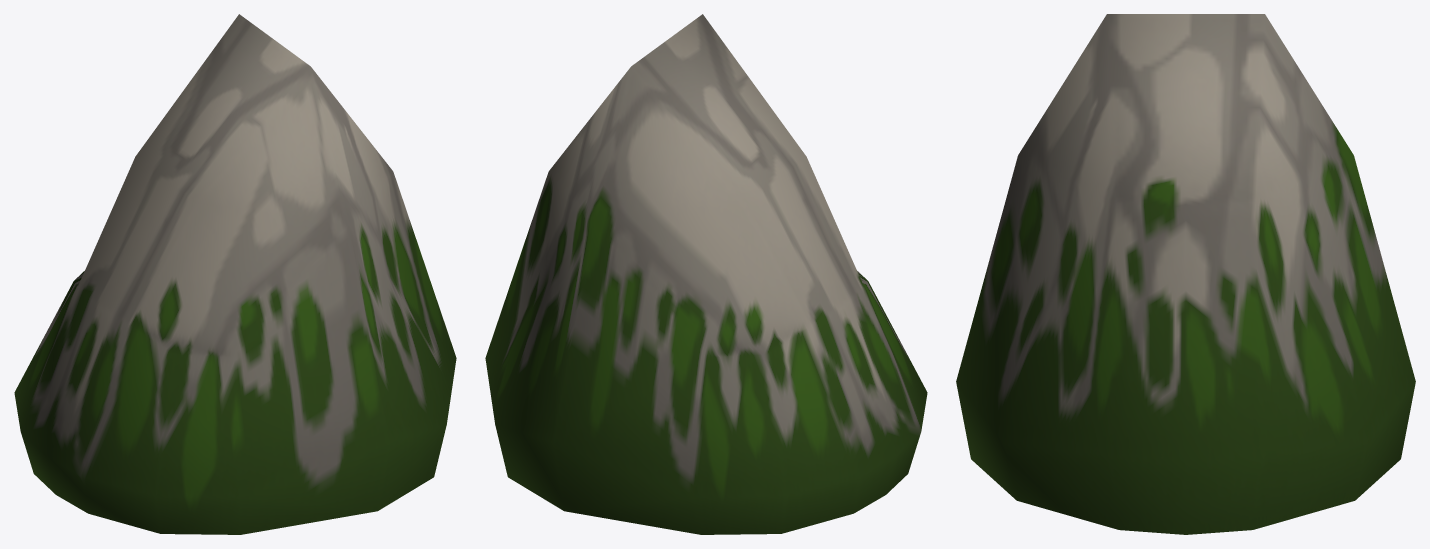
File: rock2.gltf
The picture shows the model from 3 angles, left to right: view 1: azimuth 30°, elevation 25°; view 2: azimuth 150°, elevation 25°; view 3: azimuth 270°, elevation 25°; orthographic projection. The views are drawn at different scales.
Parts seen in each view (by area): view 1: Rock_03; view 2: Rock_03; view 3: Rock_03.
Part boxes in pixels (left/top/right/bottom): Rock_03: left=14, top=14, right=456, bottom=534; Rock_03: left=485, top=14, right=927, bottom=534; Rock_03: left=956, top=14, right=1415, bottom=534.
Bounding box in the file's own units: 29.26 × 29.05 × 27.35.
1 material, 1 textured.
